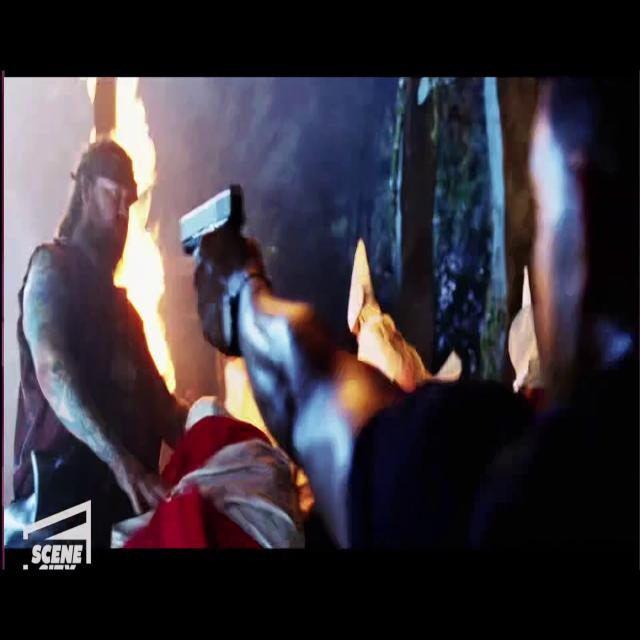weapons: (168, 163, 260, 330)
